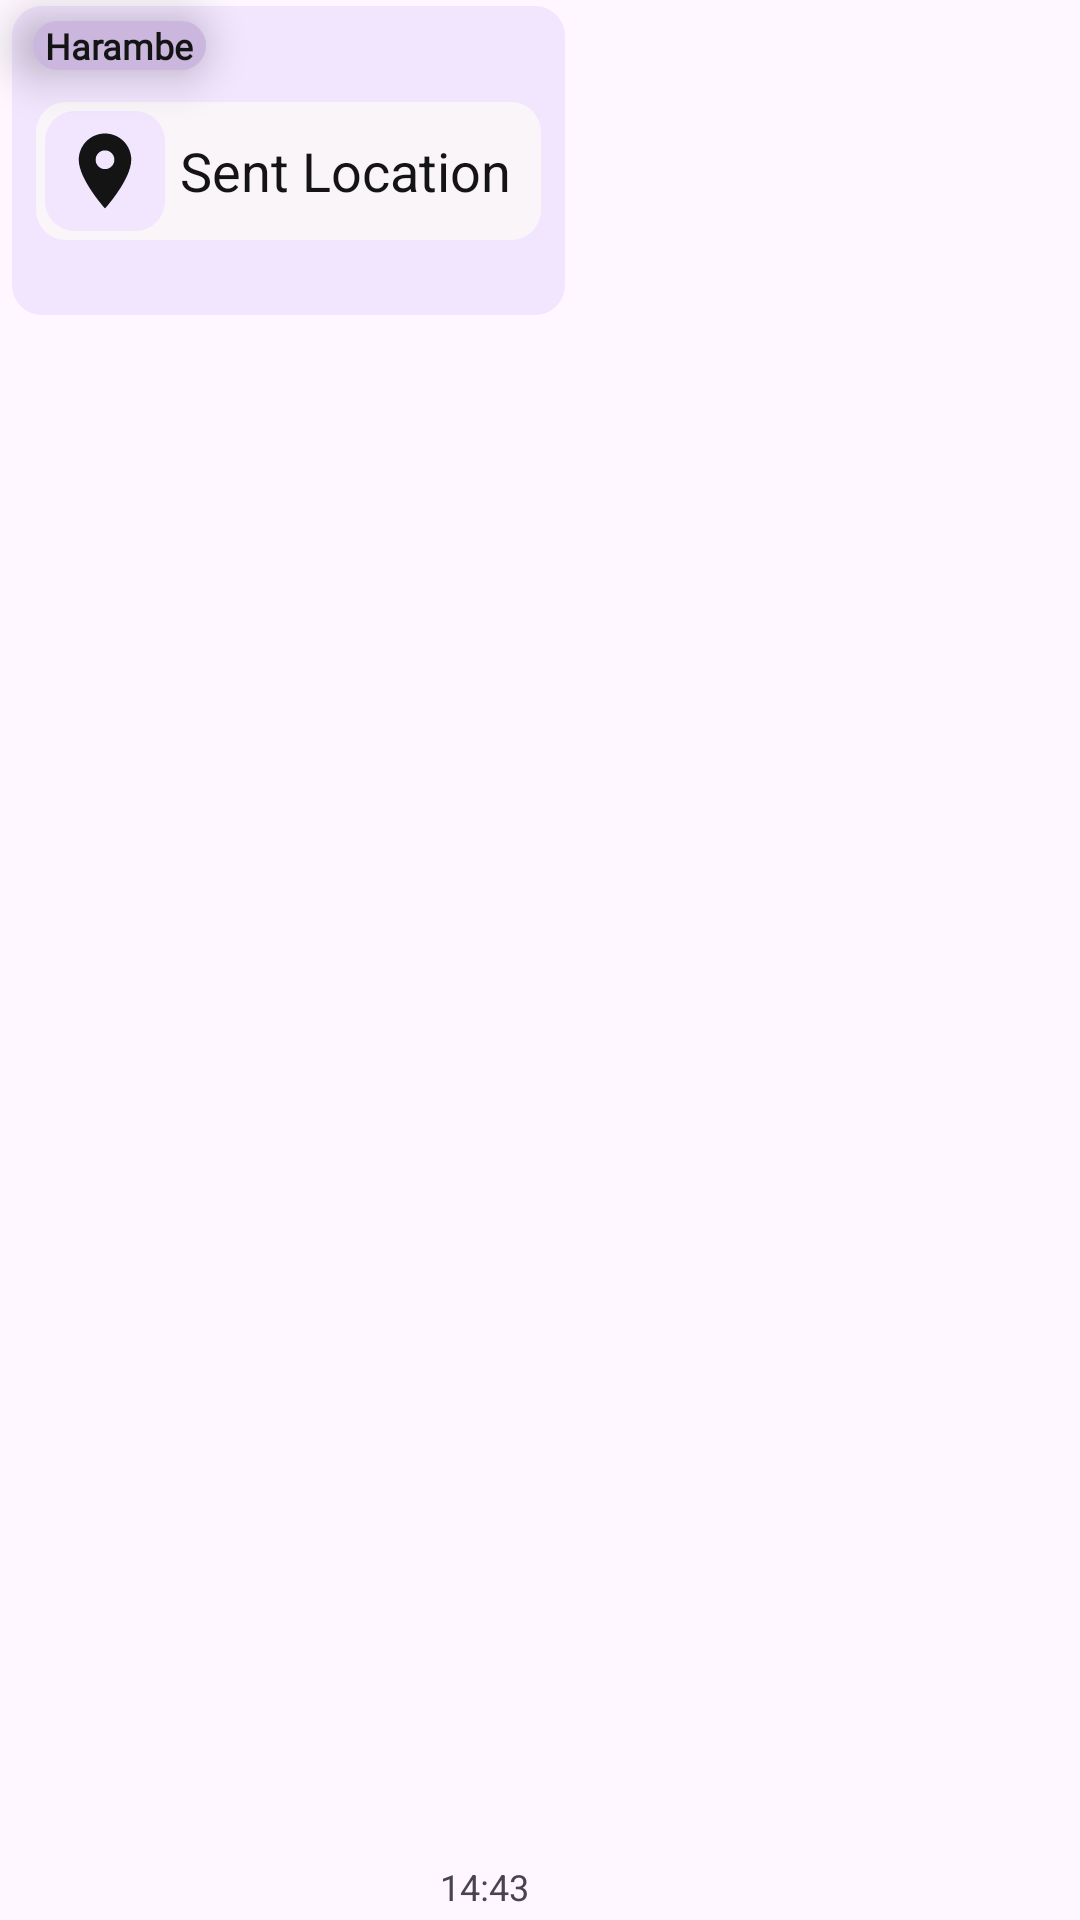

Icons on this 1080*1920 Android screen, each with its box as box(x1, y1, x2, y2):
location on: box(78, 133, 132, 209)
